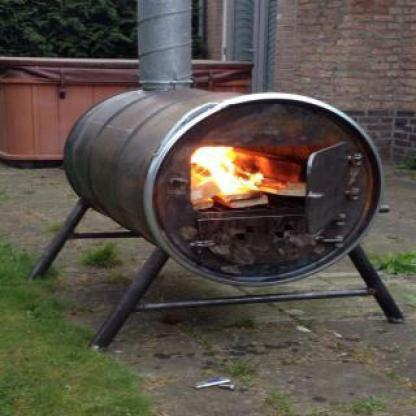fire: (190, 144, 276, 204)
